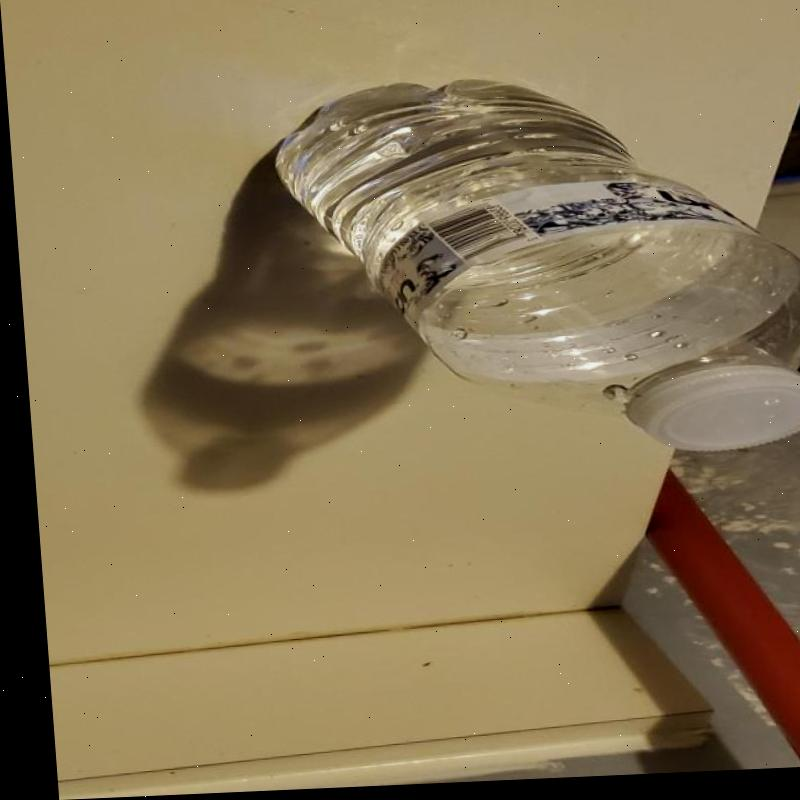botella: (265, 69, 800, 475)
